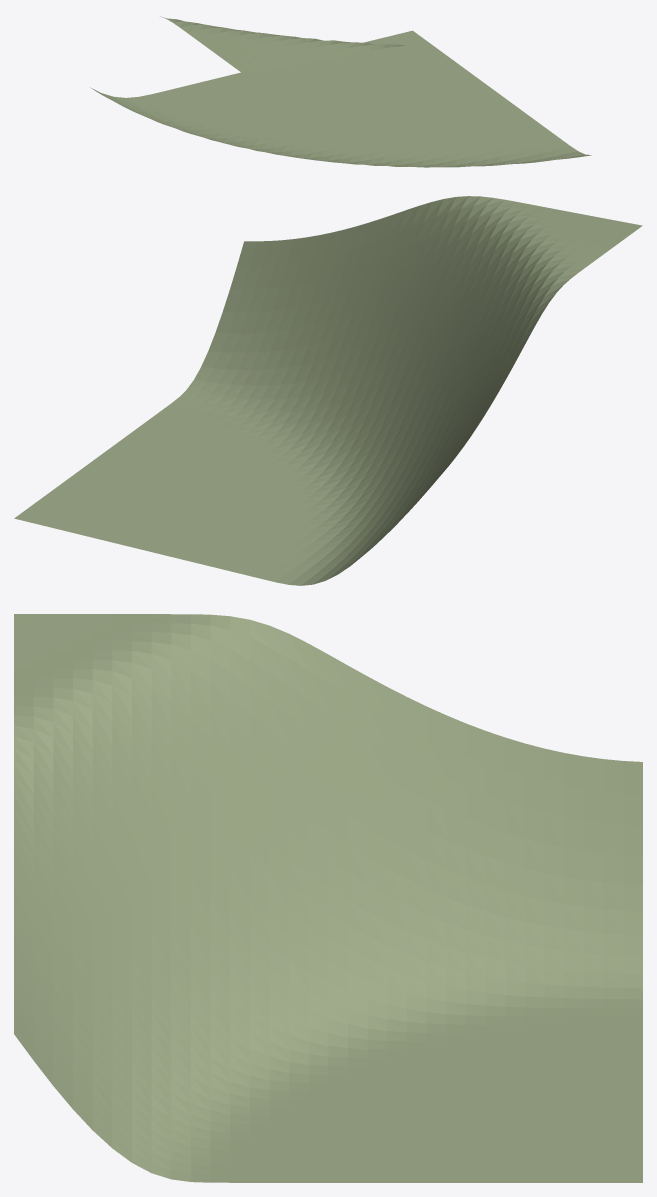
Rendered from canyon-0-1.glb.
The picture shows the model from 3 angles, top to bottom: view 1: azimuth 30°, elevation 25°; view 2: azimuth 150°, elevation 25°; view 3: azimuth 270°, elevation 25°; orthographic projection. The views are drawn at different scales.
Parts seen in each view (by area): view 1: canyon-0-1; view 2: canyon-0-1; view 3: canyon-0-1.
Part boxes in pixels (box(x1,y1,x2,y2)): canyon-0-1: box(90, 16, 591, 167); canyon-0-1: box(14, 196, 642, 585); canyon-0-1: box(14, 614, 642, 1182).
Size of the model in its own units: 128 by 68 by 128.
